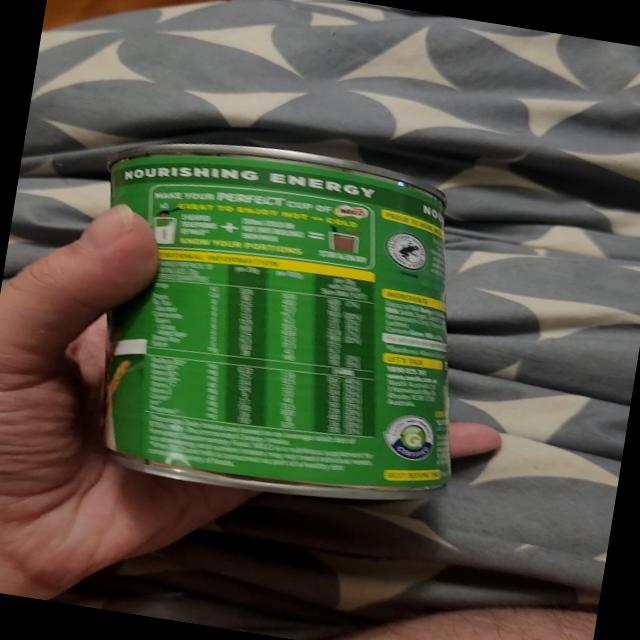nestle_milo_tin: (104, 144, 450, 498)
